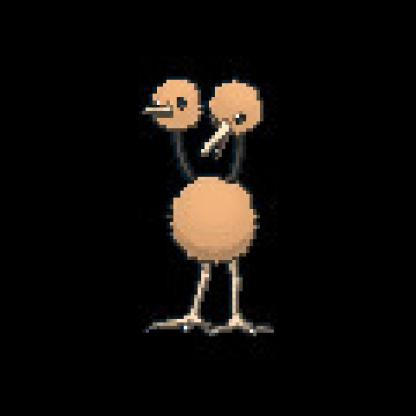Doduo: (133, 69, 287, 340)
